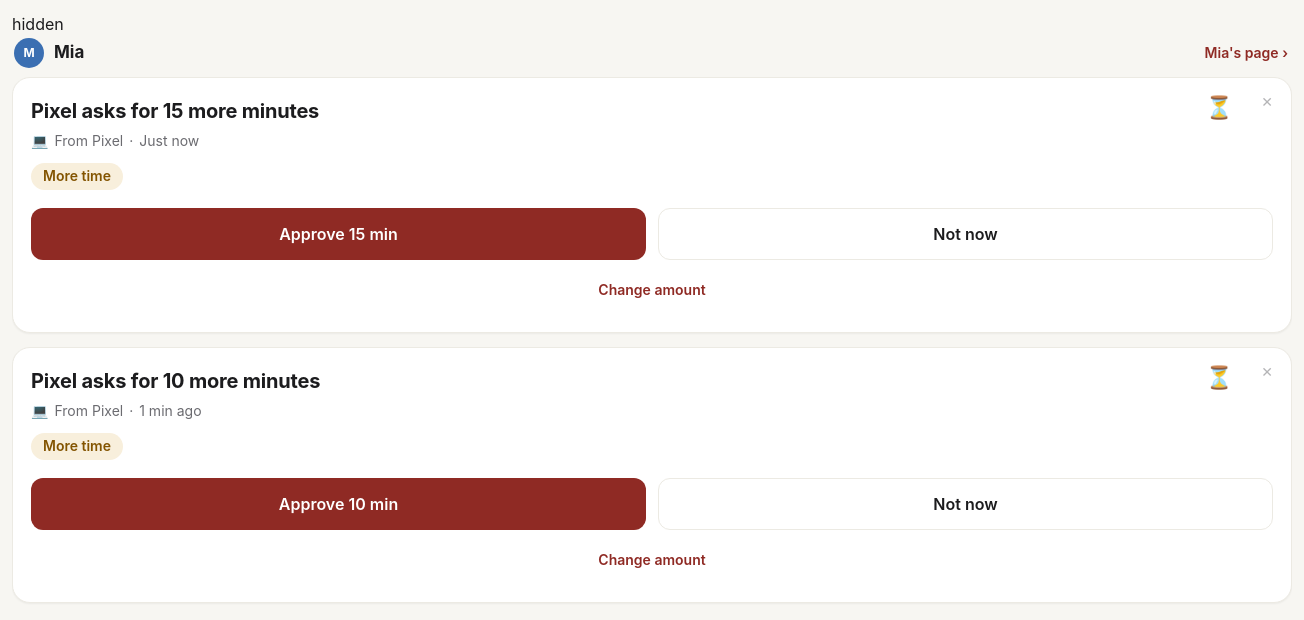
Approvals — dismiss (Task C, approvals-clarity 2026-08-04) › "Not now" is a real decision and DOES engage the signer — proving dismiss is a genuinely different act
This screenshot has width=1304, height=620.
What coordinates should you click on to do the following:
click the 1st button "Not now"
I would click on:
 (966, 234)
Its box is [658,208,1273,260].
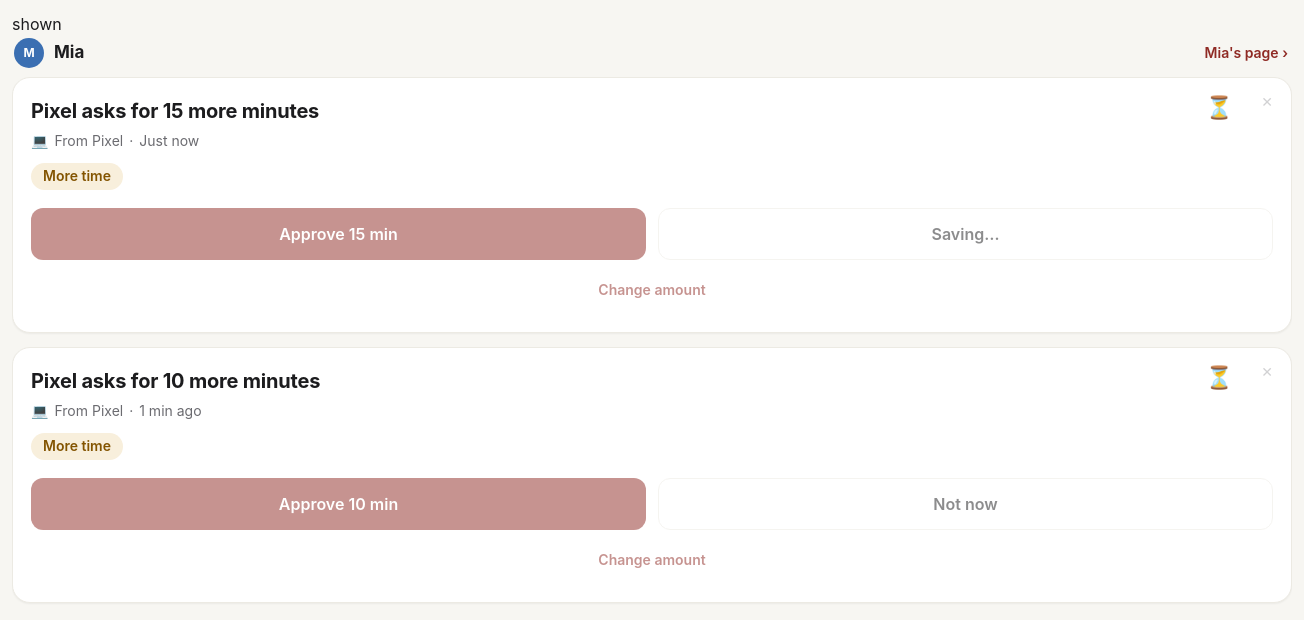
Expected: the text with test id "pending-signature" reads "shown", [12,14,62,34]
